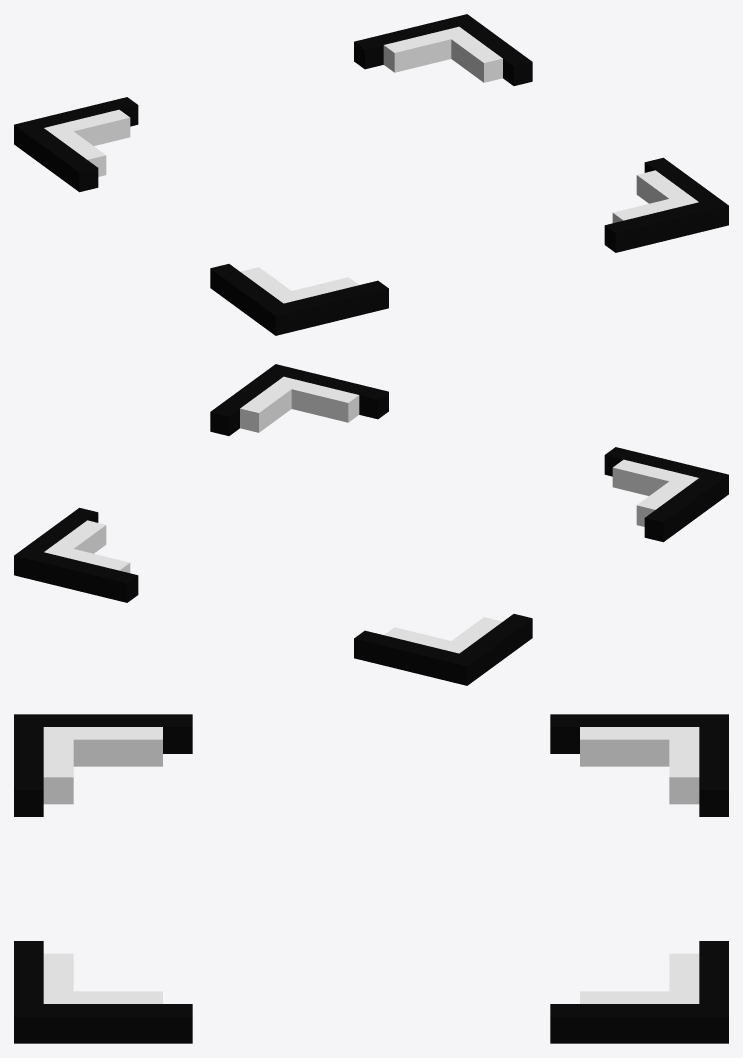
The model's file is tileselector.obj.
3 renders of one model, top to bottom at view 1: azimuth 30°, elevation 25°; view 2: azimuth 150°, elevation 25°; view 3: azimuth 270°, elevation 25°, orthographic. The views are drawn at different scales.
Size of the model in its own units: 24 by 1 by 24.
1 material, 1 textured.
